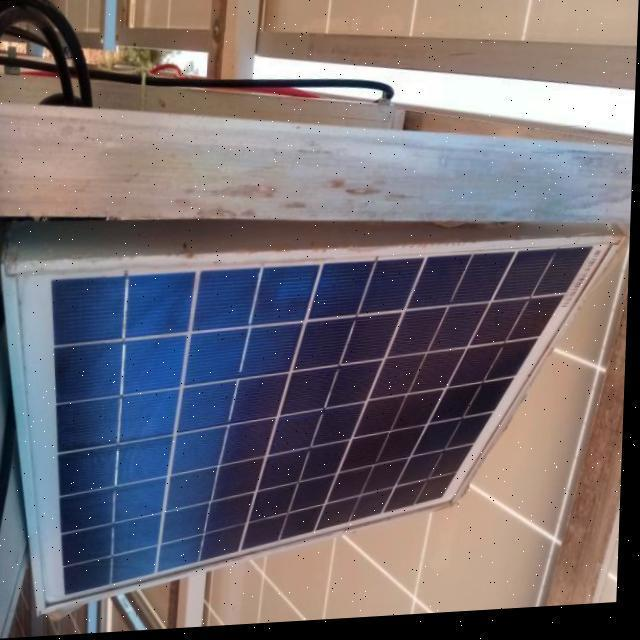Normal Solar Panel: (0, 242, 620, 615)
